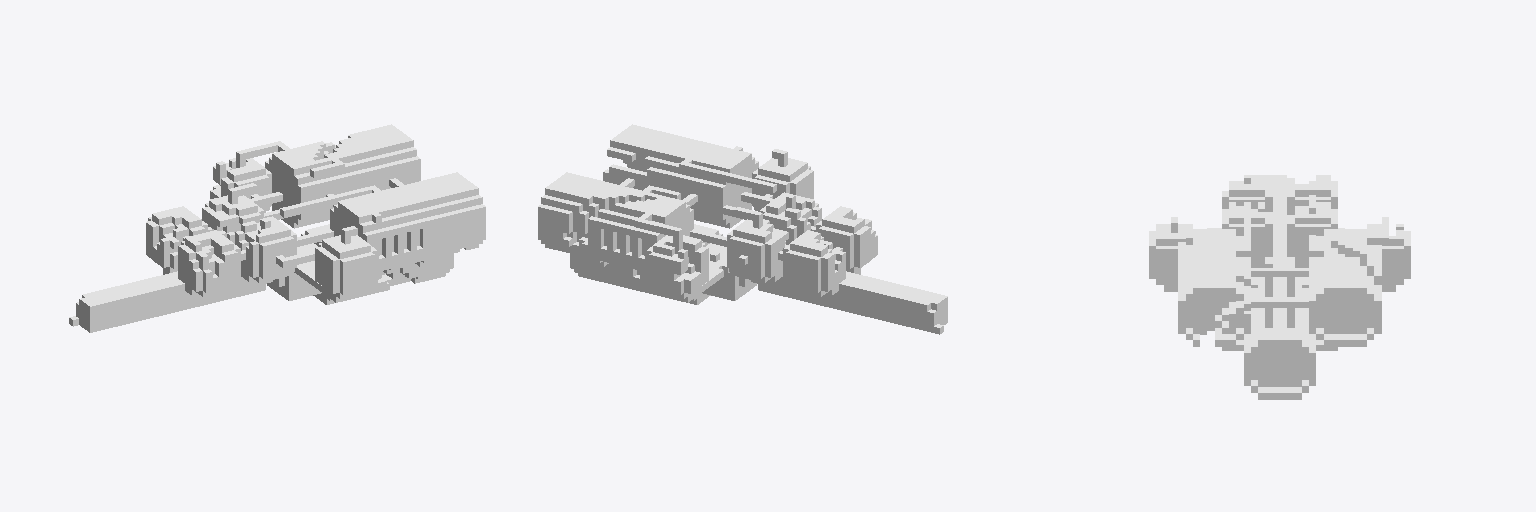
Rendered from ContainerShipPart3.obj.
3 views of the same model, side by side, from view 1: azimuth 30°, elevation 25°; view 2: azimuth 150°, elevation 25°; view 3: azimuth 270°, elevation 25° (orthographic).
Parts seen in each view (by area): view 1: object 1; view 2: object 1; view 3: object 1.
Part boxes in pixels (left/top/right/bottom): object 1: left=69, top=124, right=485, bottom=332; object 1: left=538, top=124, right=947, bottom=334; object 1: left=1149, top=175, right=1410, bottom=399.
Size of the model in its own units: 5.7 by 1.7 by 3.6.